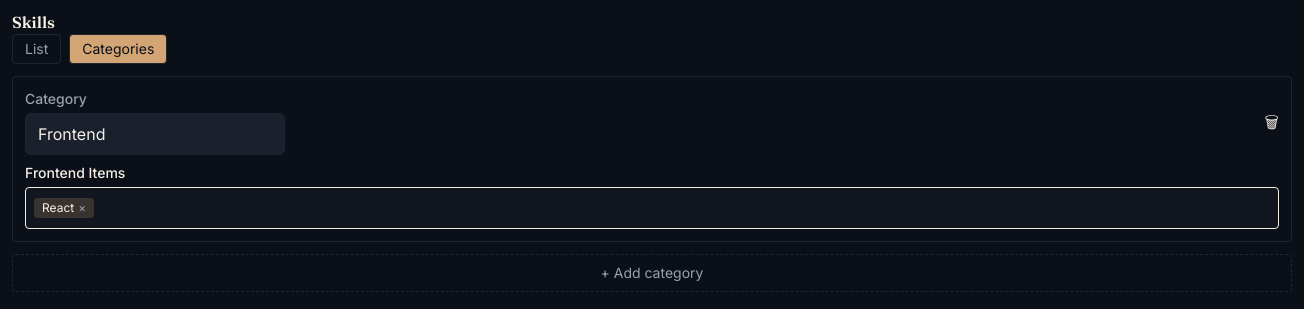
Test case: <SkillsSection /> › renames a category only on blur (stable key while typing, no per-keystroke commit)
This screenshot has width=1304, height=309.
# The categorized tab is auto-selected because a category already exists.
Replace the text in the field showing "Frontend" with "Backend" at {"x": 155, "y": 134}, box top-left (25, 113), bottom-right (285, 155)
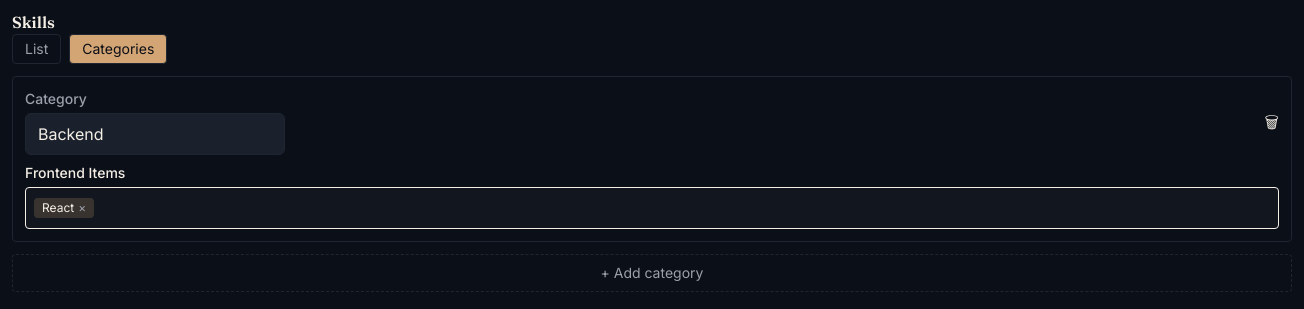
Expected: the field labelled "Backend Items" is not shown
# Commit on blur
Leave the field showing "Frontend", box top-left (25, 113), bottom-right (285, 155)
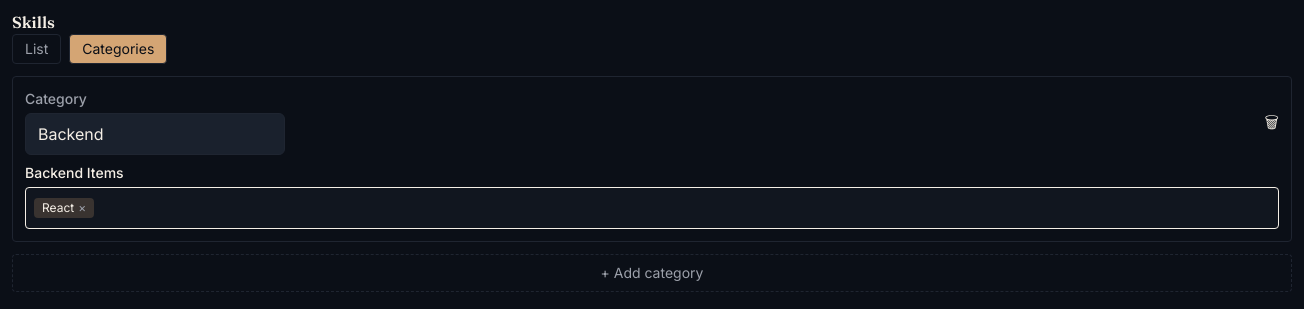
Expected: the label labelled "Frontend Items" is gone
